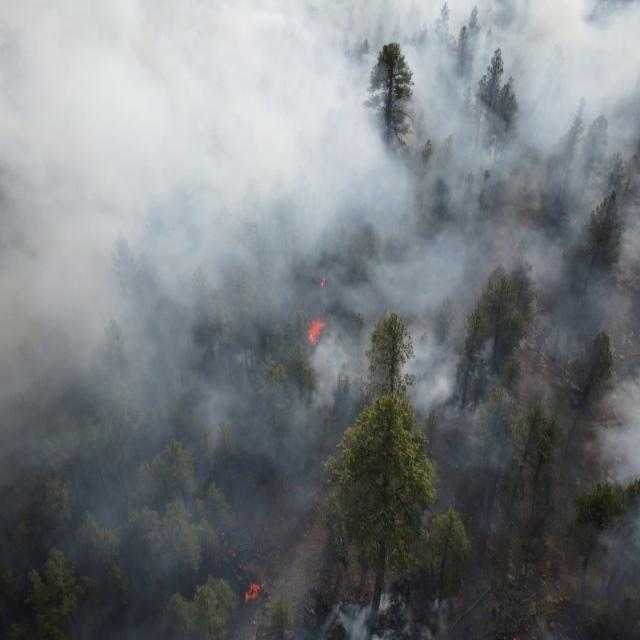fire: (217, 528, 240, 560), (306, 318, 328, 348), (243, 582, 264, 604), (509, 625, 538, 640), (320, 275, 327, 289)
smoke: (0, 0, 640, 312), (0, 313, 326, 636), (469, 407, 640, 638), (400, 313, 640, 407), (327, 594, 451, 640), (326, 313, 378, 402), (434, 407, 471, 512), (414, 406, 432, 424)
